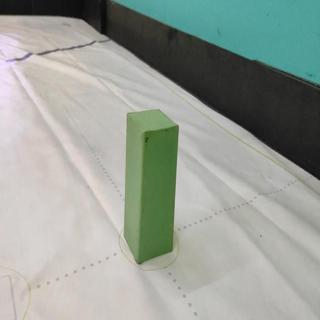greenbox: (123, 107, 181, 266)
